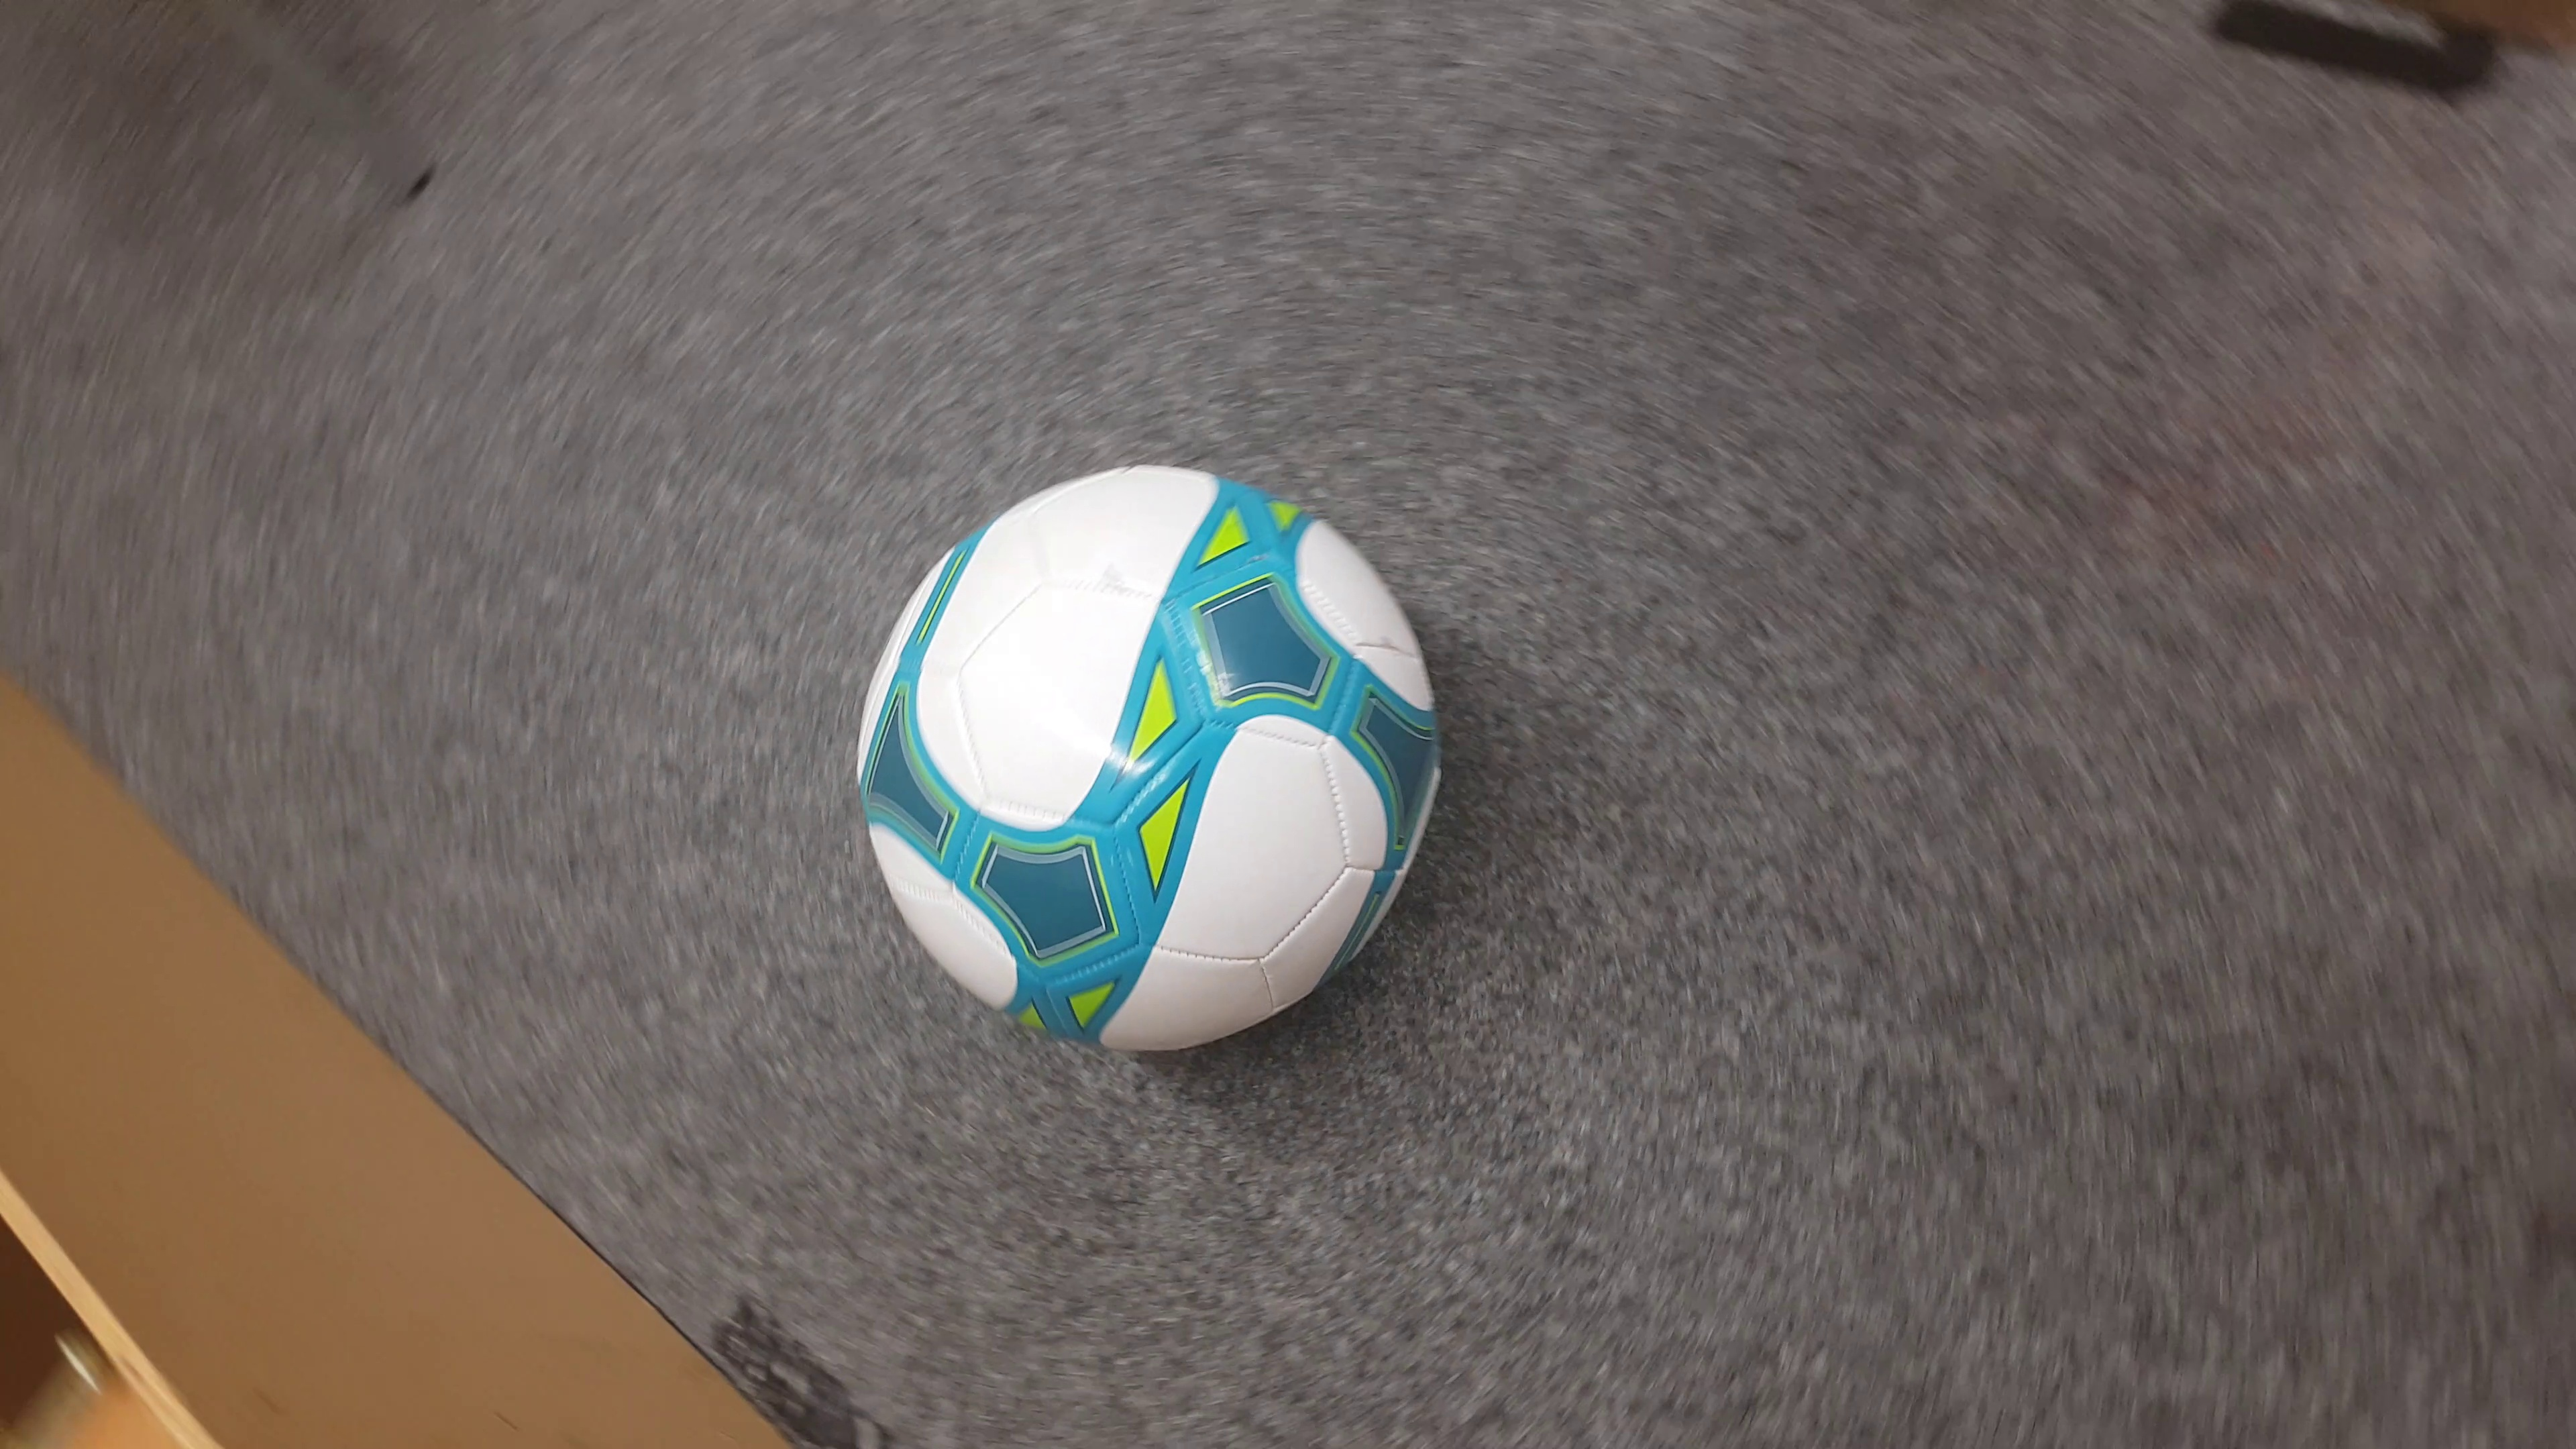kick: (862, 464, 1444, 1047)
